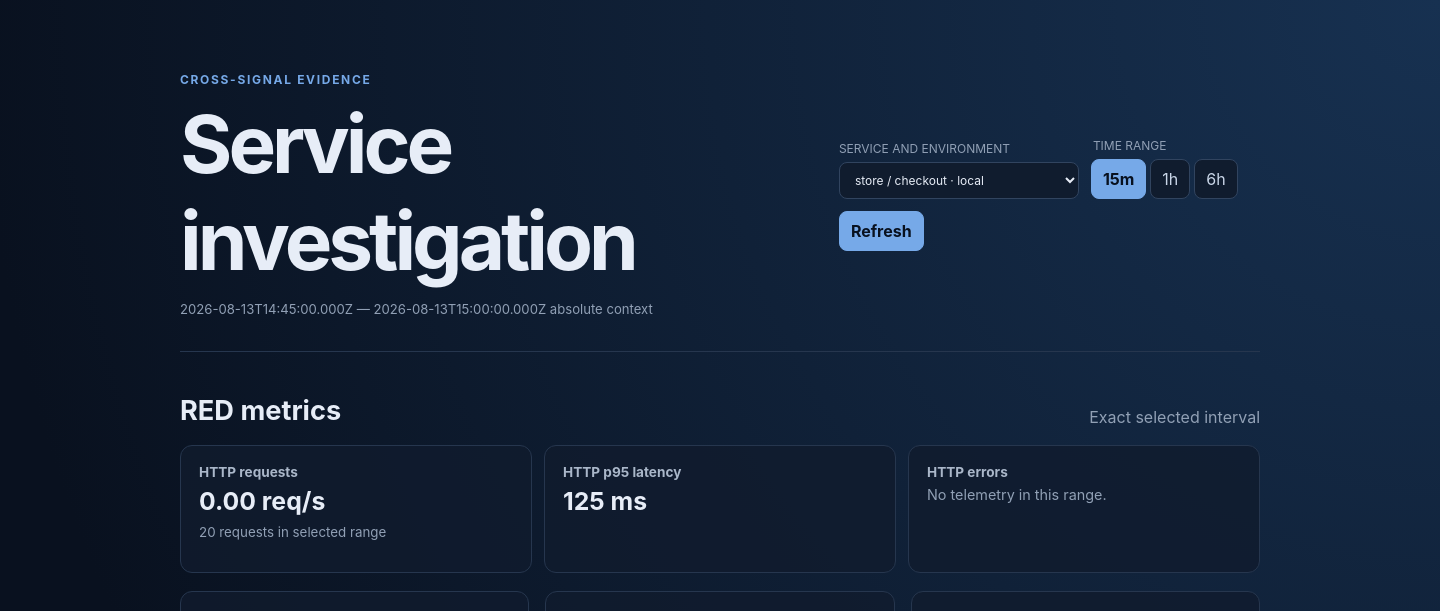
Service investigation › removes prior-range evidence immediately while the new absolute range loads
The width and height of the screenshot is (1440, 611).
Check: the text "20 requests in selected range" is shown, box [199, 524, 386, 540]
Click the button "1h" at (1170, 179), box [1150, 159, 1190, 199]
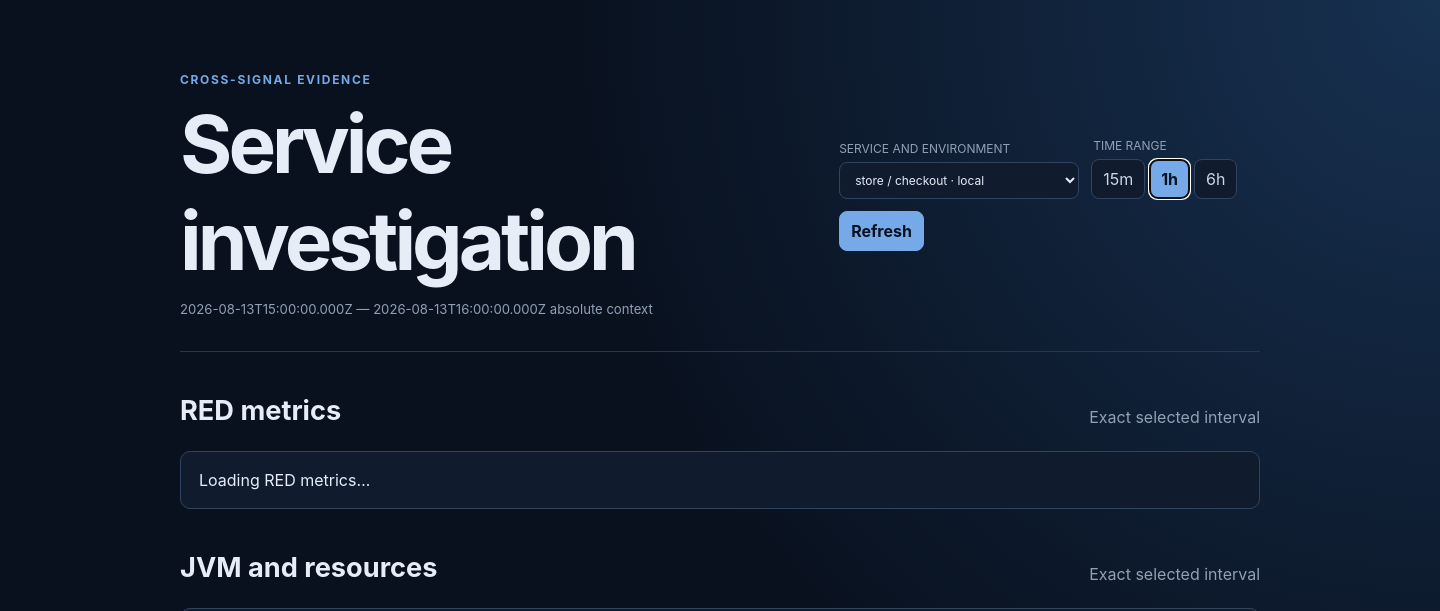
Check: the text "Loading RED metrics…" is shown, box [180, 451, 1260, 509]
Check: the text "20 requests in selected range" is gone
